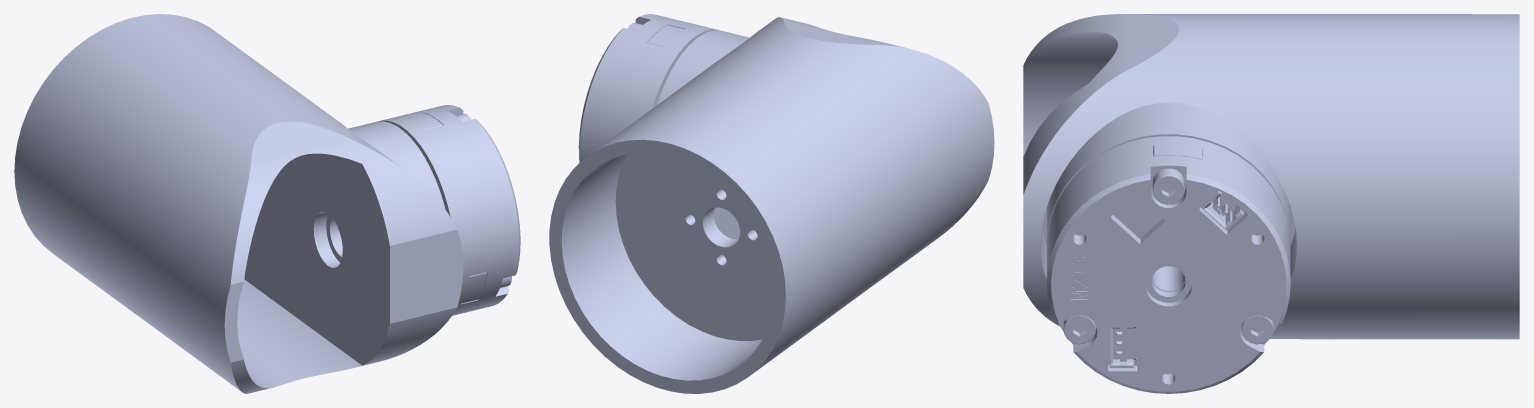
File: Link_Neck.obj
The picture shows the model from 3 angles, left to right: view 1: azimuth 30°, elevation 25°; view 2: azimuth 150°, elevation 25°; view 3: azimuth 270°, elevation 25°; orthographic projection. The views are drawn at different scales.
Parts seen in each view (by area): view 1: Body1; view 2: Body1; view 3: Body1.
Boxes of the visible parts, box(x1,y1,x2,y2) form: Body1: box(14, 14, 520, 393); Body1: box(549, 14, 994, 393); Body1: box(1023, 14, 1519, 393).
Bounding box in the file's own units: 4.9 × 3.8 × 5.8.
